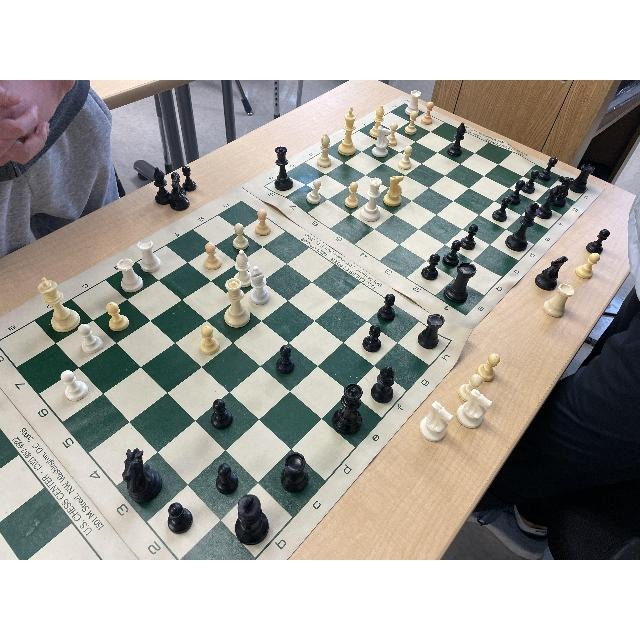black-bishop: (371, 365, 397, 403), (536, 183, 561, 218), (447, 122, 466, 158)
black-king: (233, 494, 271, 546), (503, 204, 541, 252)
black-knight: (122, 448, 164, 506), (554, 176, 575, 208)
black-pawn: (166, 502, 194, 534), (208, 400, 234, 430), (215, 464, 239, 494), (376, 293, 399, 323), (275, 344, 297, 374), (361, 323, 383, 352), (461, 222, 481, 250), (422, 253, 440, 282), (492, 196, 512, 222), (521, 167, 541, 193), (537, 157, 559, 180), (444, 239, 462, 266), (507, 180, 524, 204)
black-queen: (329, 383, 363, 435), (272, 146, 296, 190)
black-rook: (444, 261, 476, 307), (280, 452, 312, 494), (417, 314, 445, 348), (569, 162, 595, 193)
white-bishop: (248, 266, 270, 306), (230, 248, 253, 286), (370, 102, 388, 140), (316, 133, 334, 169)
white-king: (38, 275, 82, 332), (337, 105, 359, 155)
white-knight: (383, 174, 405, 209), (371, 127, 392, 159)
white-pawn: (59, 369, 89, 402), (77, 322, 105, 354), (104, 302, 130, 332), (198, 324, 221, 355), (202, 242, 224, 270), (253, 207, 272, 239), (231, 223, 250, 249), (343, 182, 360, 210), (305, 178, 324, 203), (398, 145, 416, 171), (404, 109, 420, 135), (419, 101, 435, 124), (386, 121, 400, 147)
white-queen: (222, 278, 252, 326), (360, 177, 384, 222)
white-rook: (117, 257, 144, 294), (138, 240, 162, 272), (403, 89, 422, 115)
